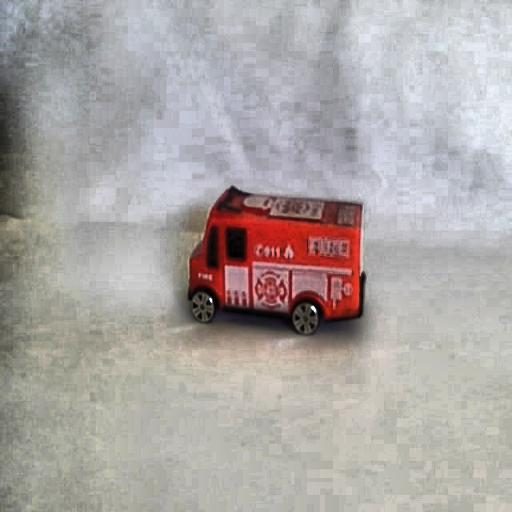fire_truck: (184, 185, 366, 336)
